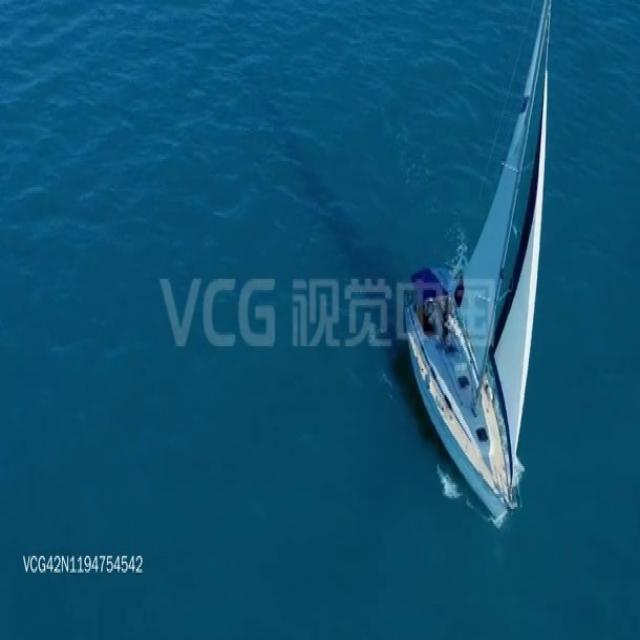sailboat: (406, 0, 557, 528)
